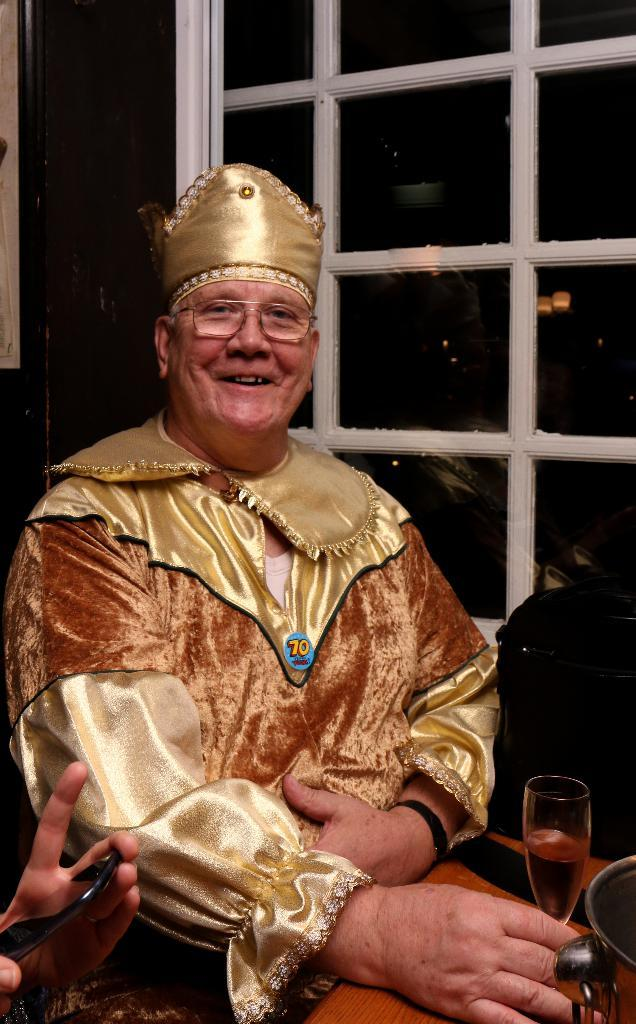Sem Máscara: (165, 280, 310, 432)
